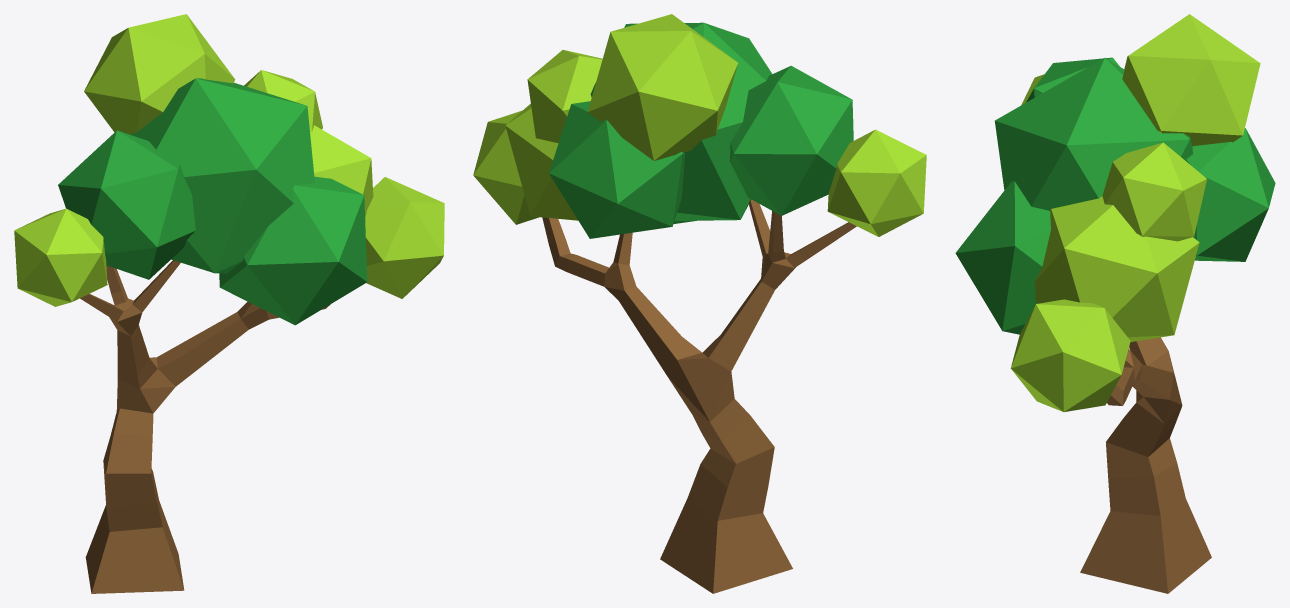
Rendered from 2Trees.fbx.
3 views of the same model, side by side, from view 1: azimuth 30°, elevation 25°; view 2: azimuth 150°, elevation 25°; view 3: azimuth 270°, elevation 25° (orthographic). The views are drawn at different scales.
Visible parts, largest first — view 1: Icosphere.002, Cube, Icosphere.008, Icosphere.003, Icosphere.007, Icosphere, Icosphere.004, Icosphere.001, Icosphere.005; view 2: Cube, Icosphere.007, Icosphere.003, Icosphere.006, Icosphere.002, Icosphere.004, Icosphere.005, Icosphere.001, Icosphere; view 3: Cube, Icosphere.002, Icosphere.001, Icosphere.007, Icosphere, Icosphere.008, Icosphere.006, Icosphere.005, Icosphere.003.
Part boxes in pixels (box(x1,y1,x2,y2)): Icosphere.002: box(129, 78, 314, 273); Cube: box(80, 260, 330, 593); Icosphere.008: box(219, 176, 367, 325); Icosphere.003: box(58, 130, 195, 279); Icosphere.007: box(84, 14, 235, 134); Icosphere: box(365, 177, 444, 298); Icosphere.004: box(14, 208, 107, 306); Icosphere.001: box(310, 125, 373, 218); Icosphere.005: box(244, 70, 322, 132); Cube: box(542, 199, 856, 593); Icosphere.007: box(587, 14, 738, 160); Icosphere.003: box(730, 65, 853, 215); Icosphere.006: box(549, 101, 684, 238); Icosphere.002: box(590, 22, 772, 220); Icosphere.004: box(827, 129, 926, 236); Icosphere.005: box(527, 50, 602, 143); Icosphere.001: box(505, 103, 577, 220); Icosphere: box(473, 110, 539, 224); Cube: box(1080, 337, 1211, 593); Icosphere.002: box(994, 58, 1192, 210); Icosphere.001: box(1034, 196, 1199, 342); Icosphere.007: box(1122, 14, 1260, 146); Icosphere: box(1010, 299, 1130, 411); Icosphere.008: box(955, 181, 1050, 334); Icosphere.006: box(1185, 128, 1275, 261); Icosphere.005: box(1102, 142, 1206, 241); Icosphere.003: box(1026, 57, 1119, 102).
Bounding box in the file's own units: 930 × 1108 × 574.
